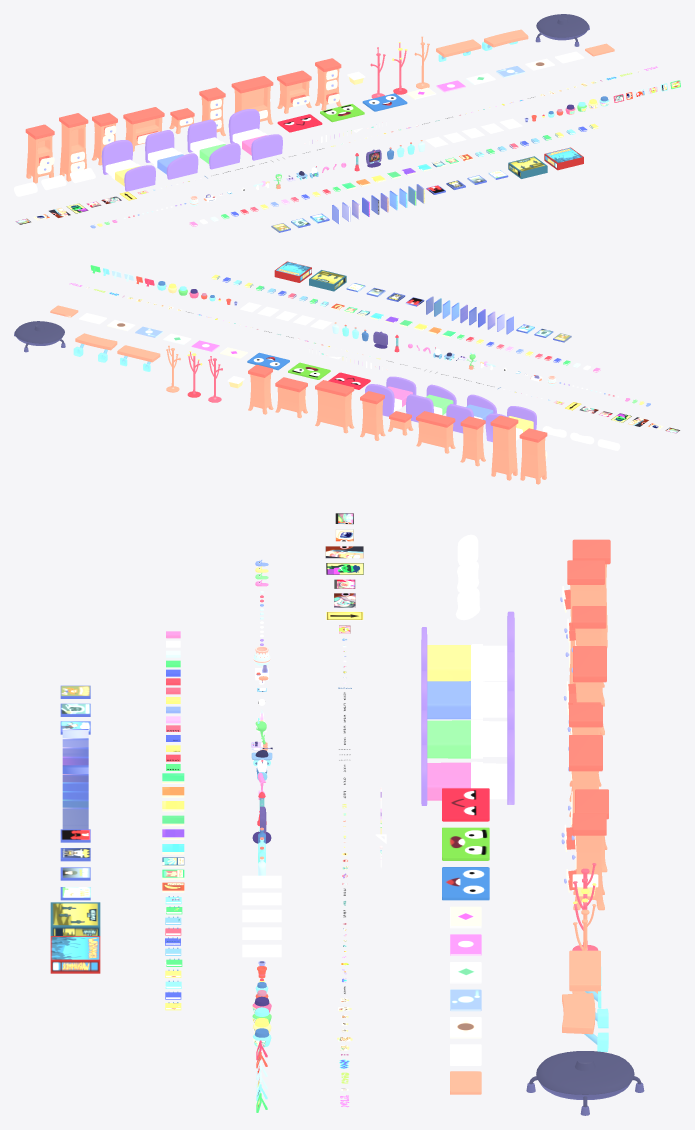
The picture shows the model from 3 angles, top to bottom: view 1: azimuth 30°, elevation 25°; view 2: azimuth 150°, elevation 25°; view 3: azimuth 270°, elevation 25°; orthographic projection. The views are drawn at different scales.
Parts seen in each view (by area): view 1: Bed_01, Bed_04, Bed_03, Bed_02, Furniture_02, Furniture_01, Furniture_07, Lamp, Furniture_04, Furniture_09, Furniture_08, Furniture_03 (+9 smaller); view 2: Furniture_07, Furniture_02, Furniture_01, Furniture_04, Bed_03, Bed_04, Lamp, Furniture_09, Bed_02, Furniture_08, Furniture_03, Furniture_06 (+9 smaller); view 3: Lamp, Bed_02, Bed_03, Bed_01, Bed_04, Furniture_08, Furniture_04, Game_19, Furniture_07, Shelf_02, Furniture_02, Game_18 (+8 smaller).
Boxes of the visible parts, x1,y1,x2,y2 form: Bed_01: (101, 140, 155, 191); Bed_04: (228, 109, 282, 160); Bed_03: (187, 119, 240, 169); Bed_02: (145, 130, 198, 179); Furniture_02: (59, 113, 88, 181); Furniture_01: (25, 124, 54, 183); Furniture_07: (231, 76, 273, 124); Lamp: (535, 14, 589, 46); Furniture_04: (123, 107, 164, 151); Furniture_09: (277, 70, 311, 113); Furniture_08: (315, 58, 341, 110); Furniture_03: (91, 112, 117, 165); Furniture_07: (315, 380, 354, 433); Furniture_02: (490, 415, 518, 480); Furniture_01: (519, 428, 547, 484); Furniture_04: (416, 411, 455, 453); Bed_03: (406, 384, 456, 422); Bed_04: (365, 376, 416, 416); Lamp: (14, 321, 65, 352); Furniture_09: (275, 377, 307, 418); Bed_02: (446, 394, 496, 433); Furniture_08: (248, 364, 273, 414); Furniture_03: (460, 416, 485, 466); Furniture_06: (360, 391, 385, 440); Lamp: (526, 1051, 644, 1115); Bed_02: (421, 651, 514, 719); Bed_03: (421, 690, 514, 758); Bed_01: (421, 611, 514, 681); Bed_04: (421, 729, 514, 805); Furniture_08: (564, 813, 606, 910); Furniture_04: (563, 646, 606, 735); Game_19: (50, 936, 100, 973); Furniture_07: (568, 735, 602, 827); Shelf_02: (562, 993, 608, 1052); Furniture_02: (565, 560, 604, 683); Game_18: (50, 902, 100, 935).
Bounding box in the file's own units: 1.07 × 0.0918 × 0.45.
3 materials, 2 textured.
